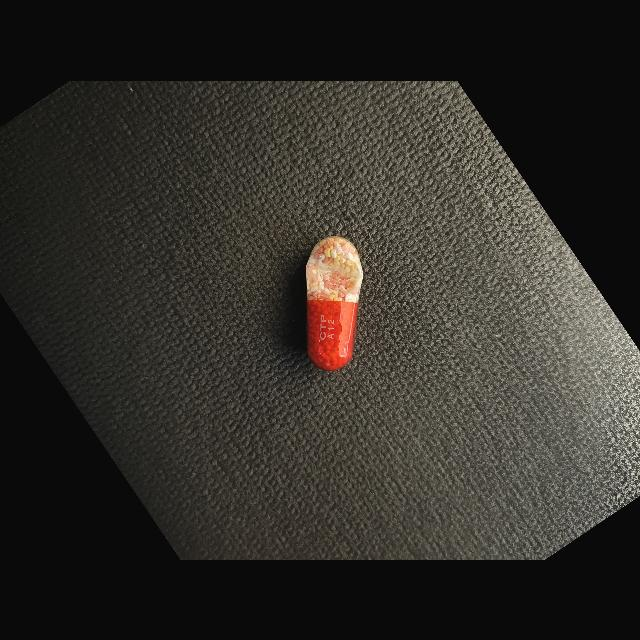Defective Capsule: (306, 236, 364, 370)
